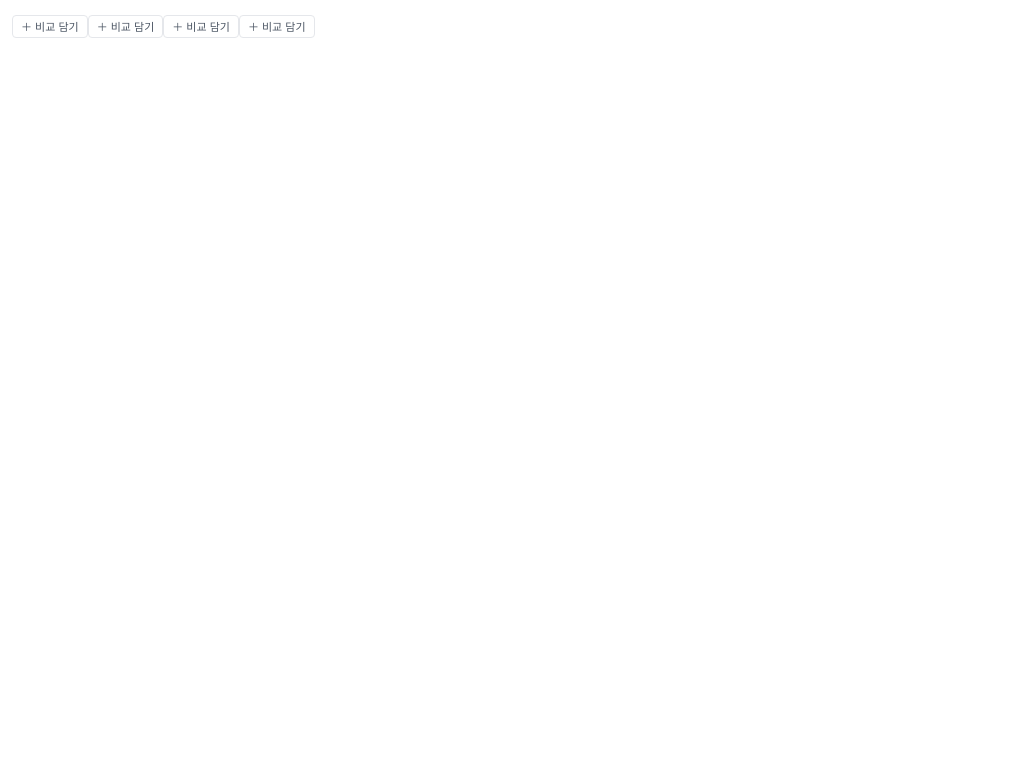
compare tray › stays hidden until something is added, then guides the user to add a second property
Click the 1st button "＋ 비교 담기". click: (50, 26)
box: [12, 15, 88, 38]
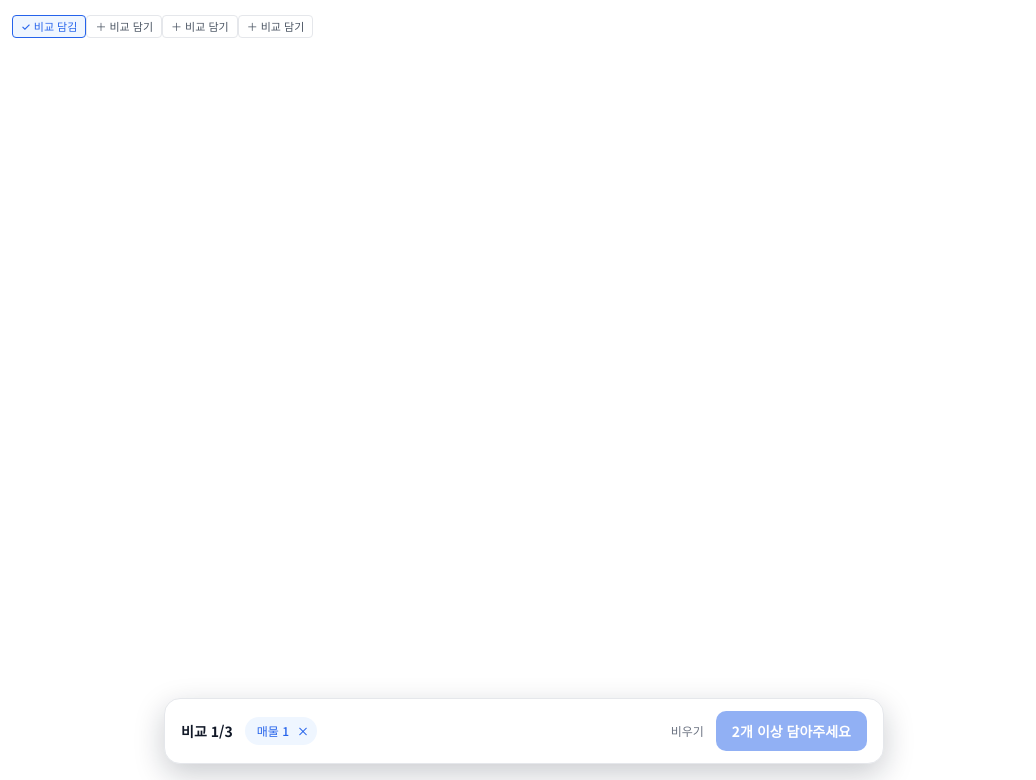
Now the element named "비교 목록" is shown, box [164, 698, 884, 764]
Now the text "비교 1/3" is shown, box [181, 721, 233, 741]
Now the button "2개 이상 담아주세요" is disabled, box [716, 711, 867, 751]
